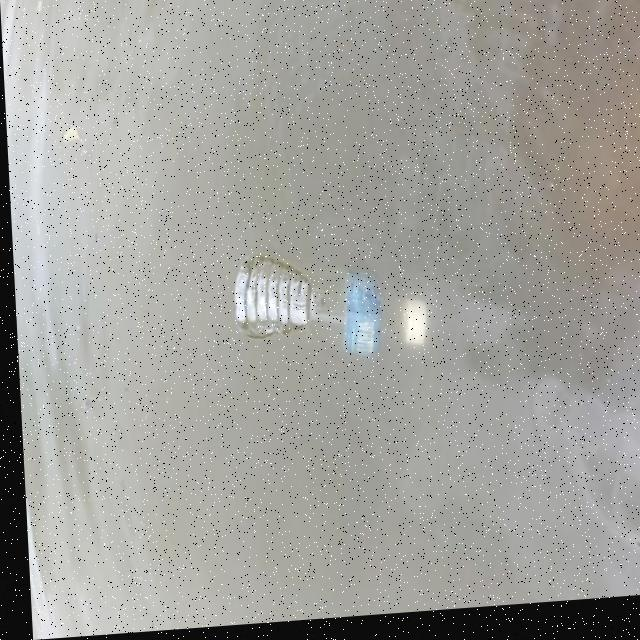waterbottle: (212, 246, 426, 383)
